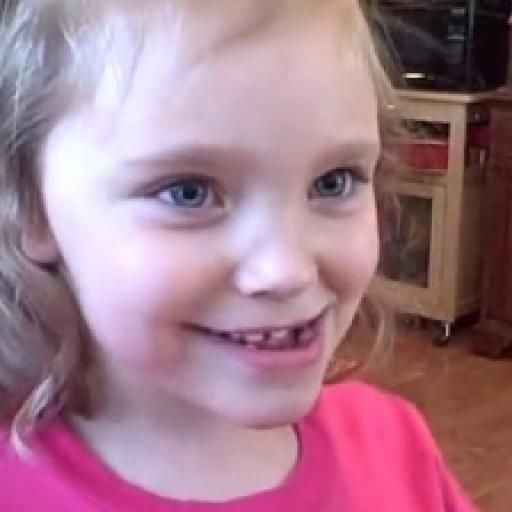Autism: (8, 9, 456, 448)
